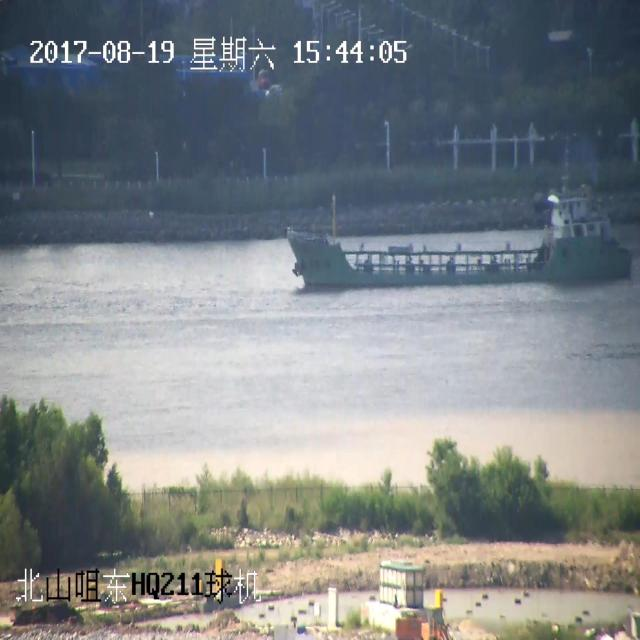houseboat: (270, 163, 620, 298)
